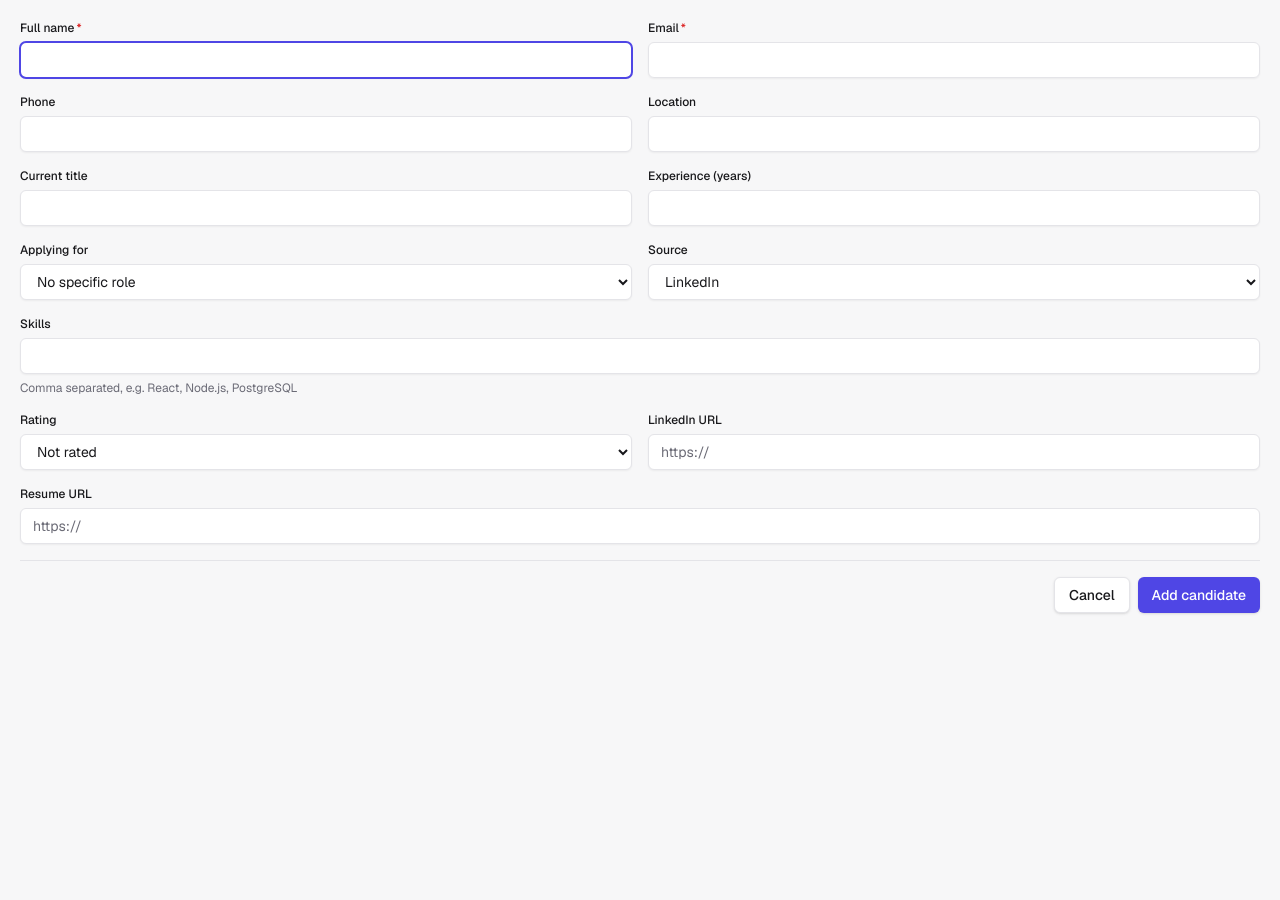
Test: CandidateForm › shows field errors and does not submit when required fields are invalid
This screenshot has width=1280, height=900.
Click the button "Add candidate": [1199, 595] box [1138,577,1260,613]
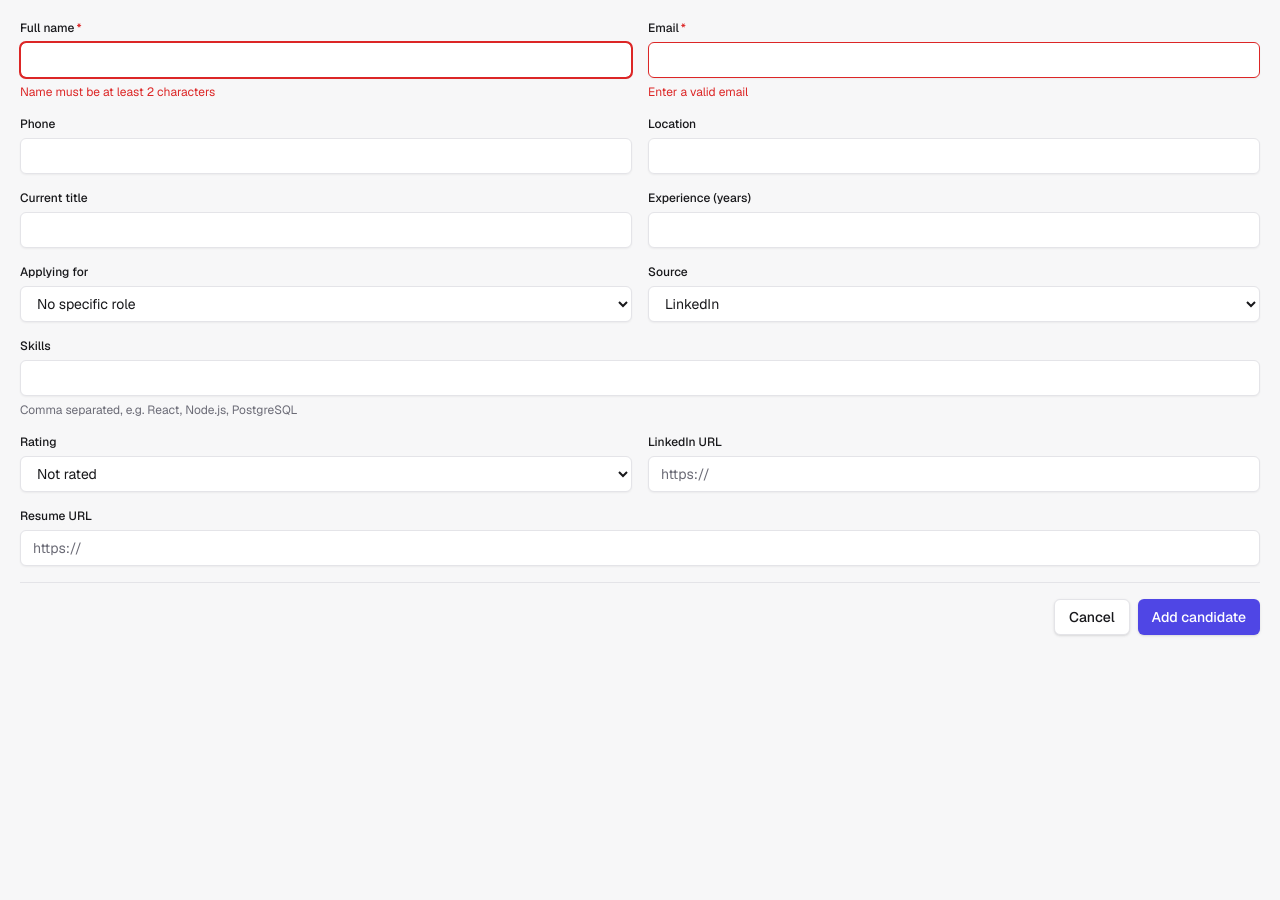
Expected: the text "Name must be at least 2 characters" is shown, [20,84,215,100]
Expected: the text "Enter a valid email" is shown, [648,84,748,100]
